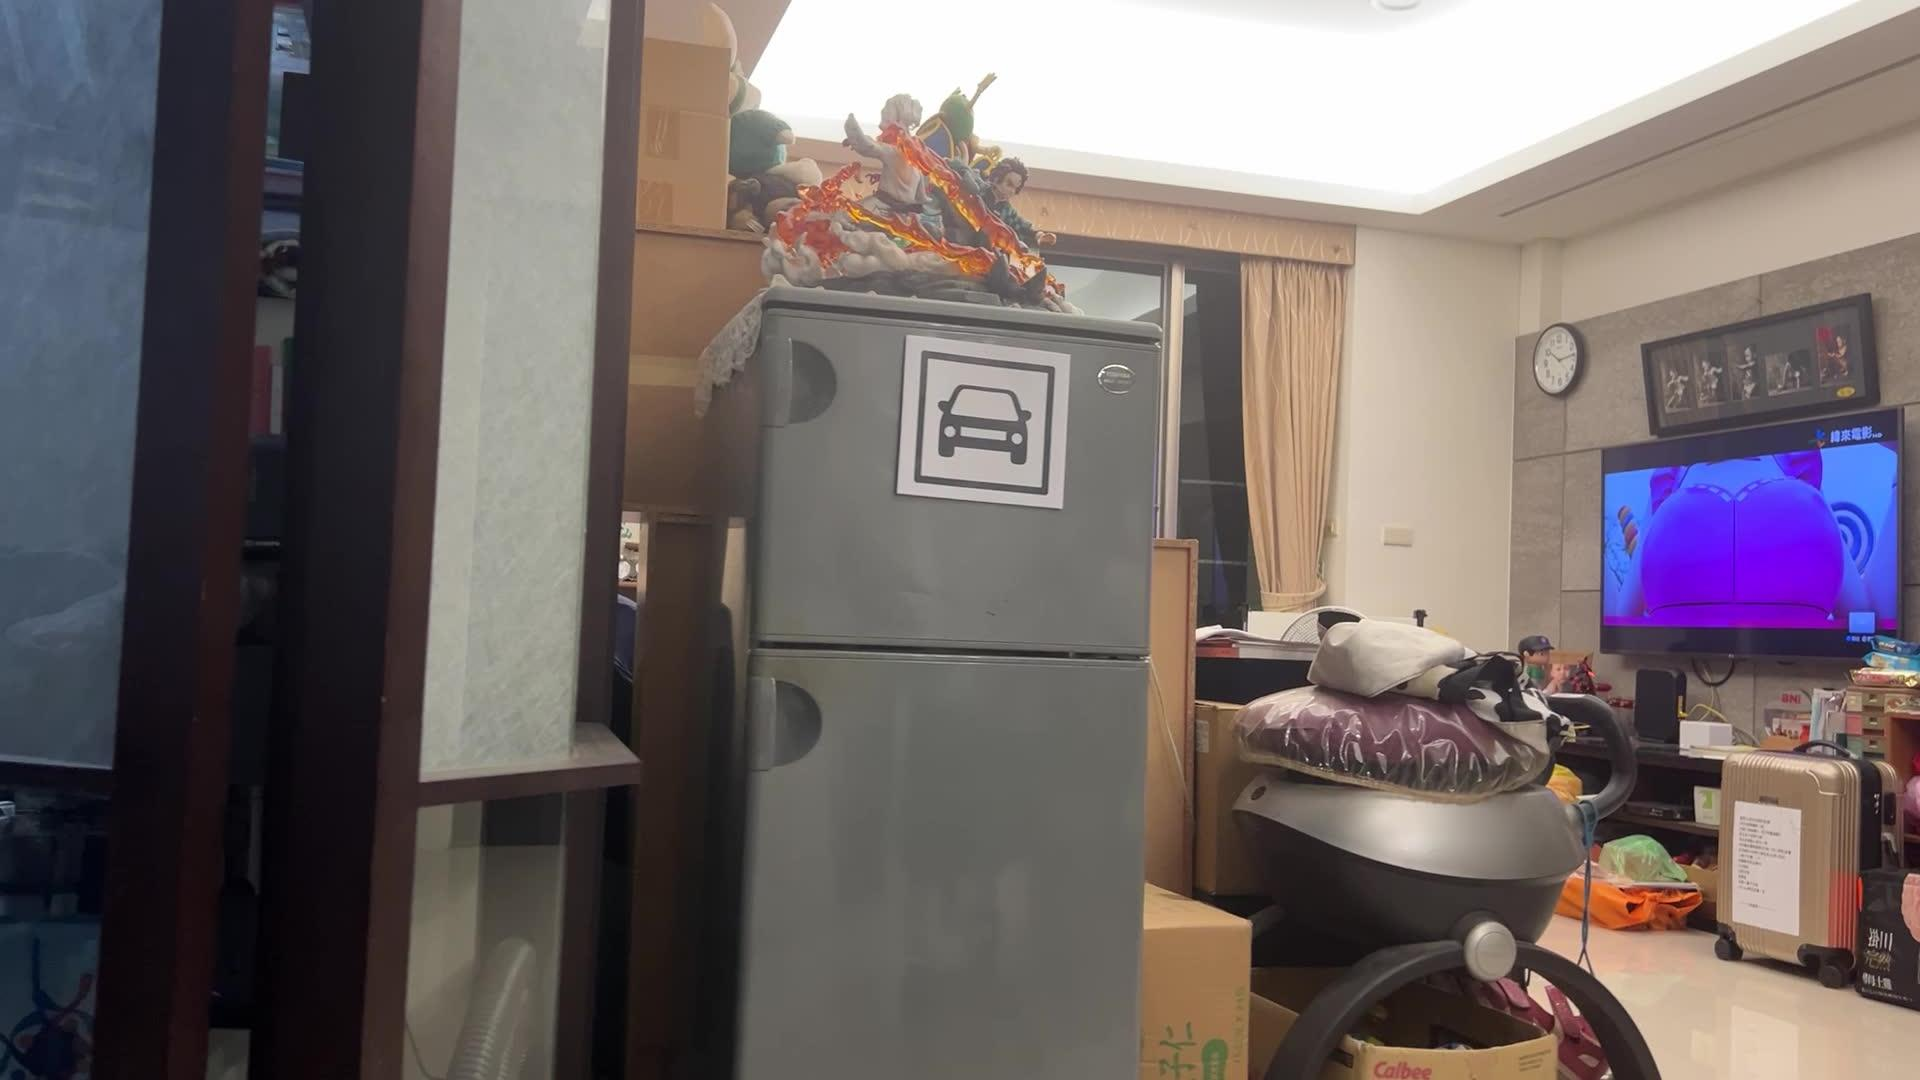car_img: (911, 348, 1056, 498)
